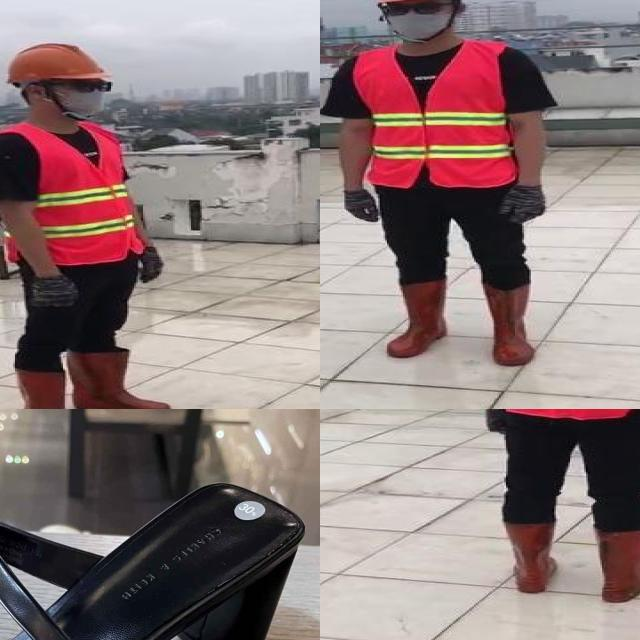Sandals: (0, 443, 320, 640)
boots: (73, 348, 178, 409), (478, 281, 544, 367), (383, 282, 451, 359), (499, 519, 565, 594), (0, 366, 109, 409), (589, 524, 640, 600)
face_mask: (380, 0, 453, 40), (54, 76, 111, 116)
glasses: (377, 0, 451, 20), (62, 78, 119, 96)
hand_glove: (500, 186, 550, 223), (29, 274, 79, 309), (342, 188, 382, 223), (138, 245, 175, 282), (482, 409, 511, 434)
head_helmet: (0, 42, 108, 83)
person: (320, 0, 559, 377), (0, 43, 190, 409), (447, 409, 640, 611)
vest: (355, 45, 520, 190), (0, 126, 143, 266)
